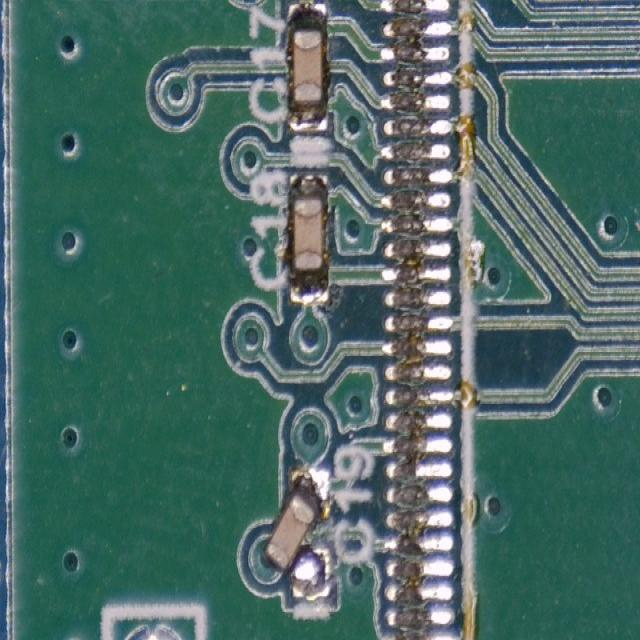Incorrect_installation: (264, 467, 330, 598)
